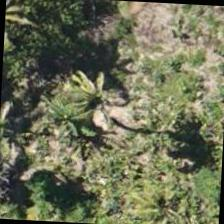Kelapa_Sawit: (25, 64, 120, 158), (121, 168, 215, 223)
